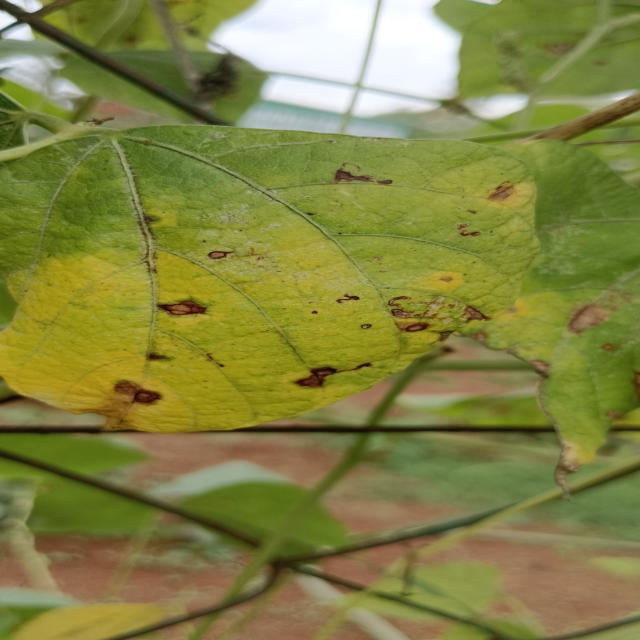Dolicos bean_cercospora leaf spot: (0, 129, 526, 433)
